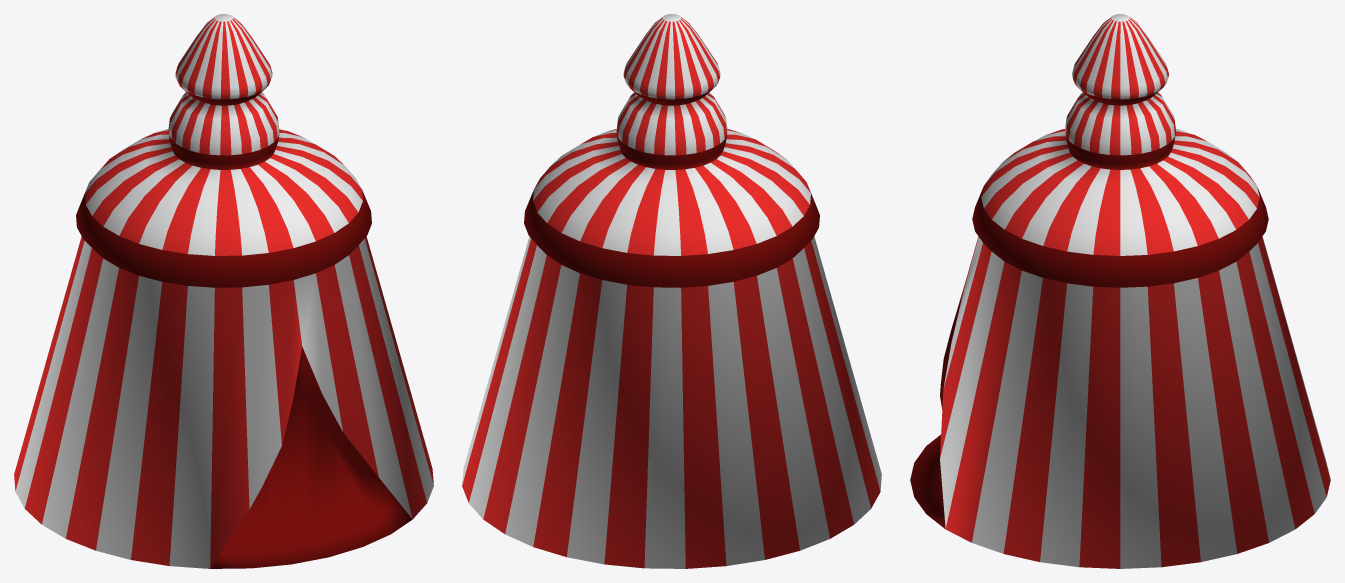
The model's file is barraca pontuda.fbx.
3 renders of one model, left to right at view 1: azimuth 30°, elevation 25°; view 2: azimuth 150°, elevation 25°; view 3: azimuth 270°, elevation 25°, orthographic.
Parts seen in each view (by area): view 1: Barraca cilindro pontudo; view 2: Barraca cilindro pontudo; view 3: Barraca cilindro pontudo.
Boxes of the visible parts, x1,y1,x2,y2 form: Barraca cilindro pontudo: (14, 14, 433, 568); Barraca cilindro pontudo: (462, 14, 881, 568); Barraca cilindro pontudo: (910, 14, 1330, 568).
Bounding box in the file's own units: 1789 × 2169 × 1789.
